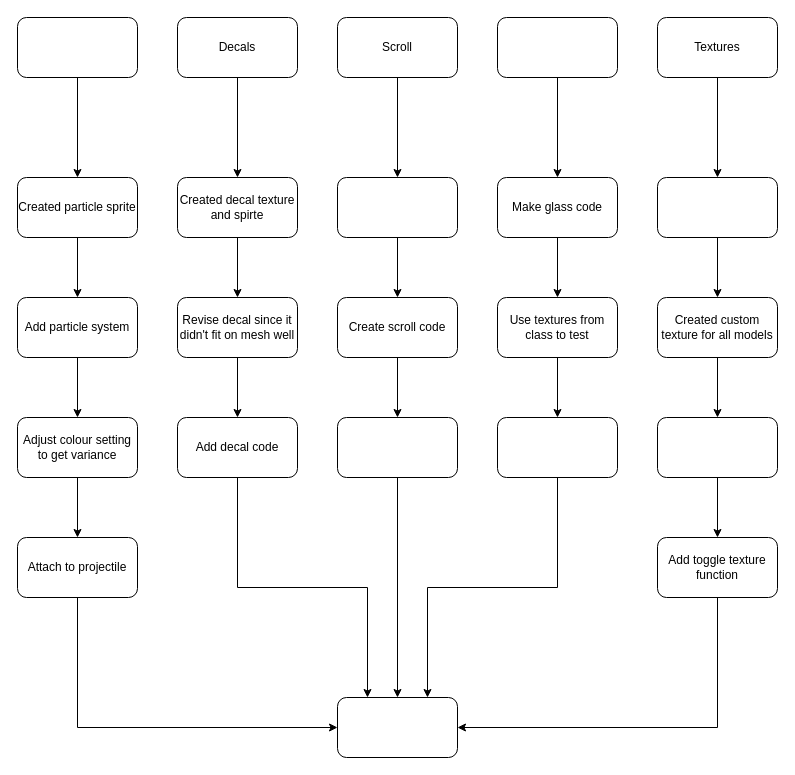
Image size: 795x775. Some labels were removed from this diagram. Here are the shapes that lost their labels. From the top down, the centre of each, then its label:
point 77,47: Particles
point 557,47: Glass
point 397,207: Created scroll texture
point 717,207: Made 3D models to texture
point 397,447: Adjust texture because it looked bad
point 557,447: Created custom texture and normal map
point 717,447: Created normal maps
point 397,727: Finalize
